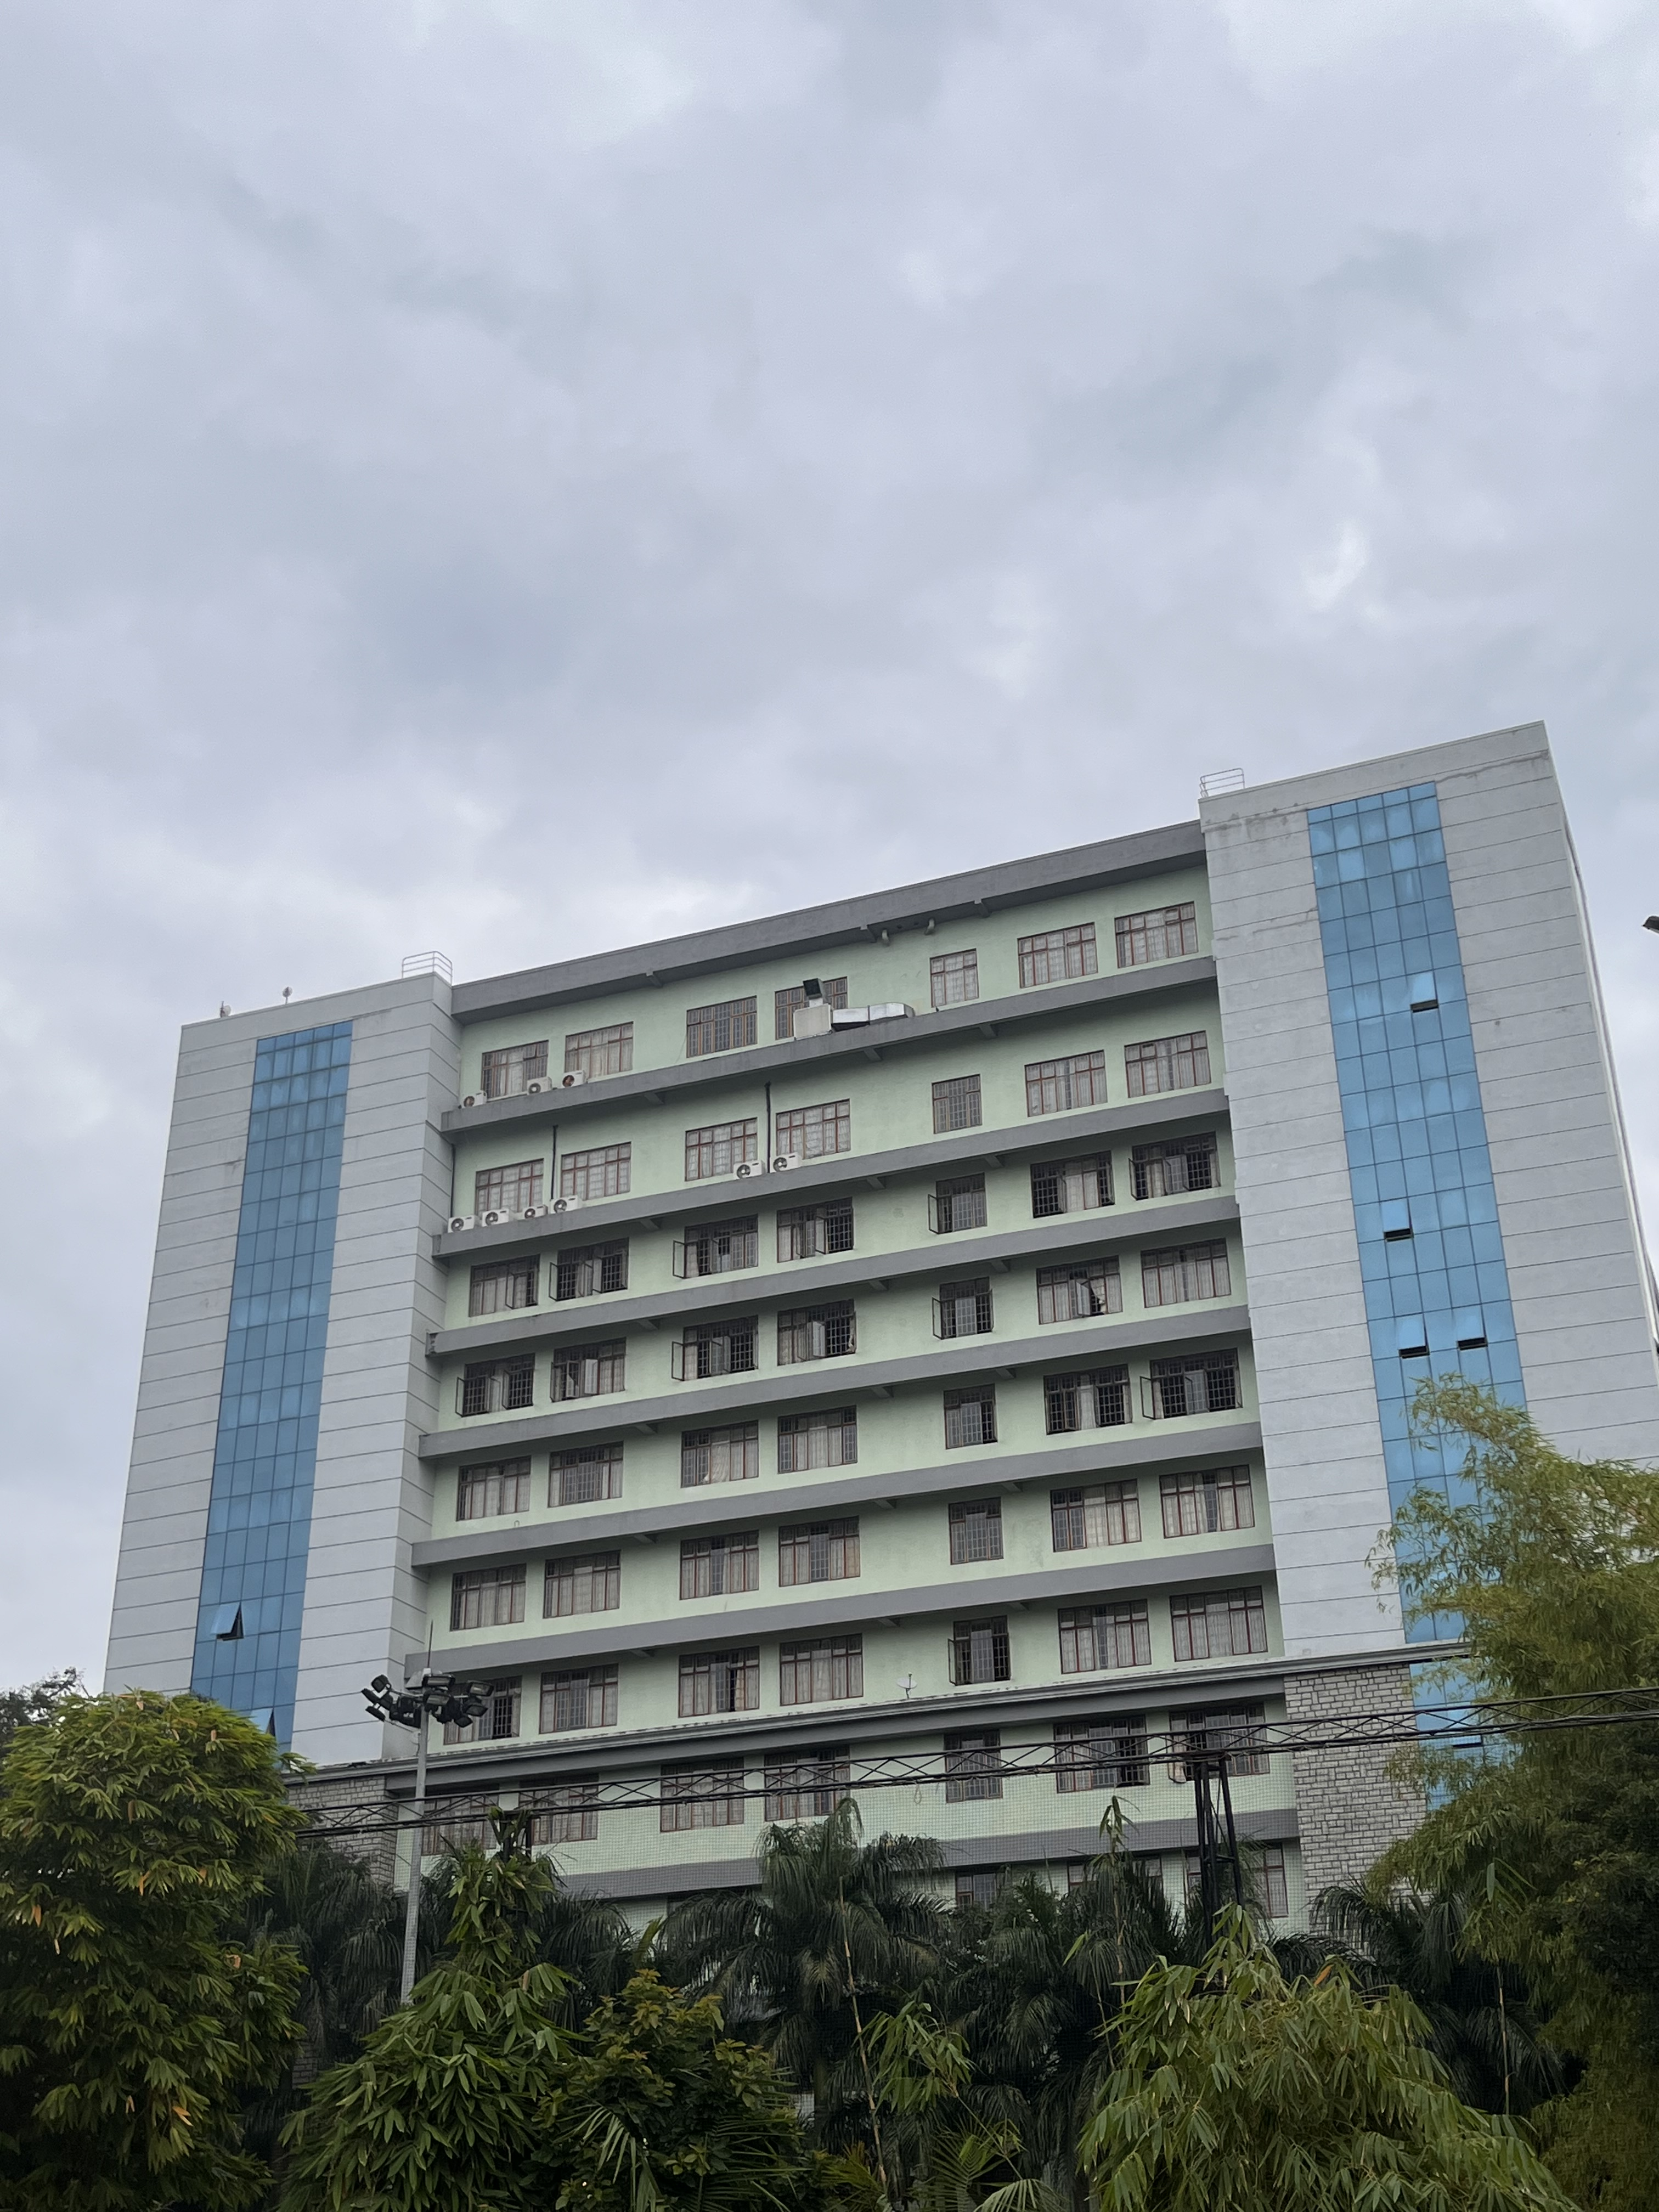Central Block: (124, 786, 1621, 1986)
